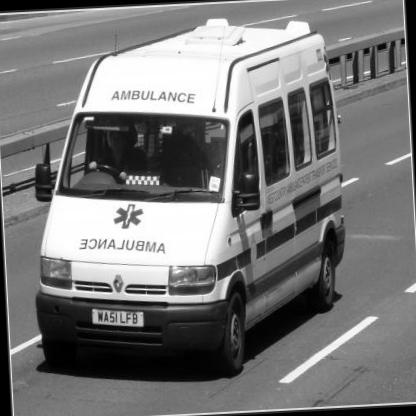ambulance: (15, 1, 372, 378)
